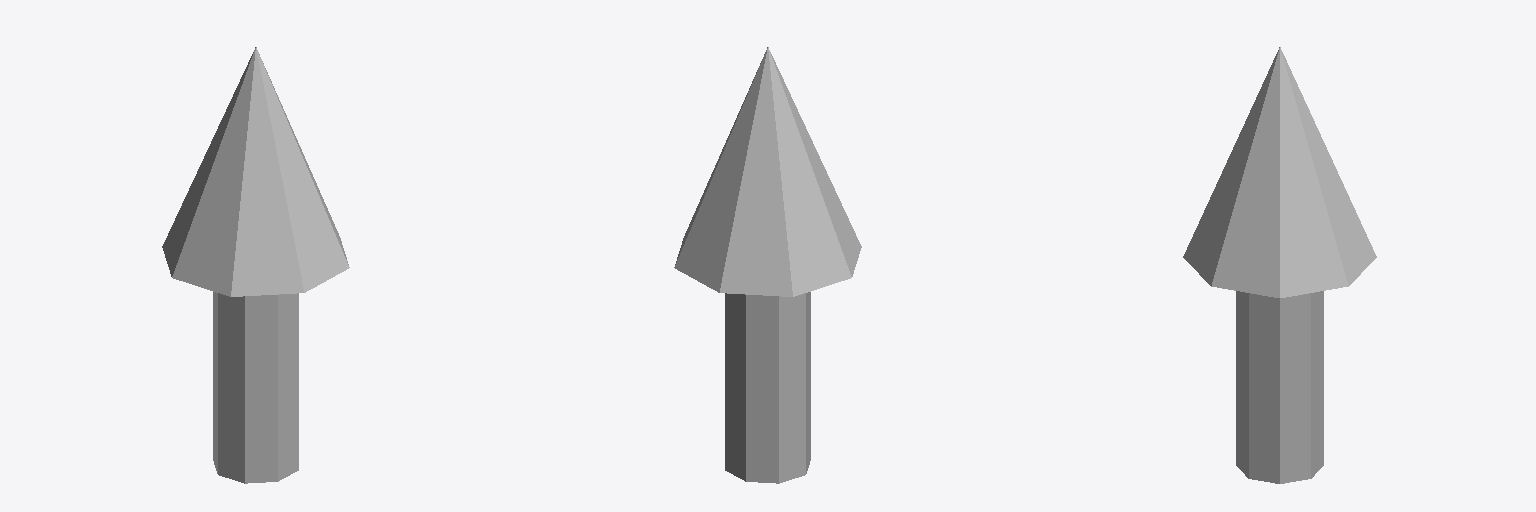
The model's file is arrow.obj.
3 views of the same model, side by side, from view 1: azimuth 30°, elevation 25°; view 2: azimuth 150°, elevation 25°; view 3: azimuth 270°, elevation 25° (orthographic).
Visible parts, largest first — view 1: Arrow low poly; view 2: Arrow low poly; view 3: Arrow low poly.
Boxes of the visible parts, x1=… form: Arrow low poly: x1=162, y1=47, x2=349, y2=483; Arrow low poly: x1=674, y1=47, x2=861, y2=483; Arrow low poly: x1=1183, y1=47, x2=1376, y2=483.
Size of the model in its own units: 0.44 by 1.05 by 0.44.